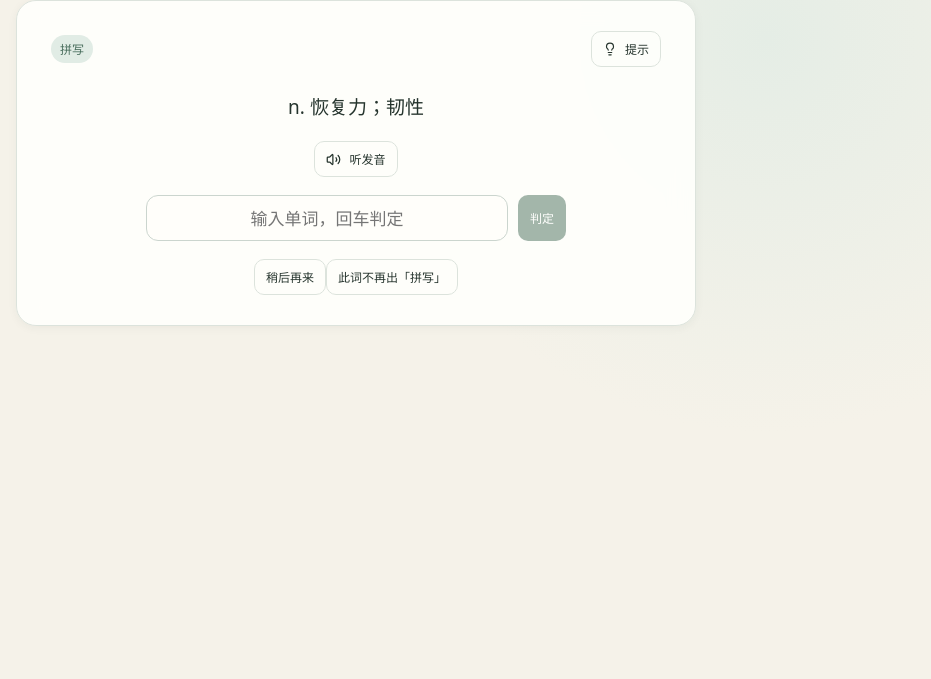
拼写卡（typing 流） › 答错：标红、显示正确答案、建议 Again
Type "resiliance" into the field with placeholder "输入单词，回车判定" at coordinates (327, 218), box [146,195,508,241]
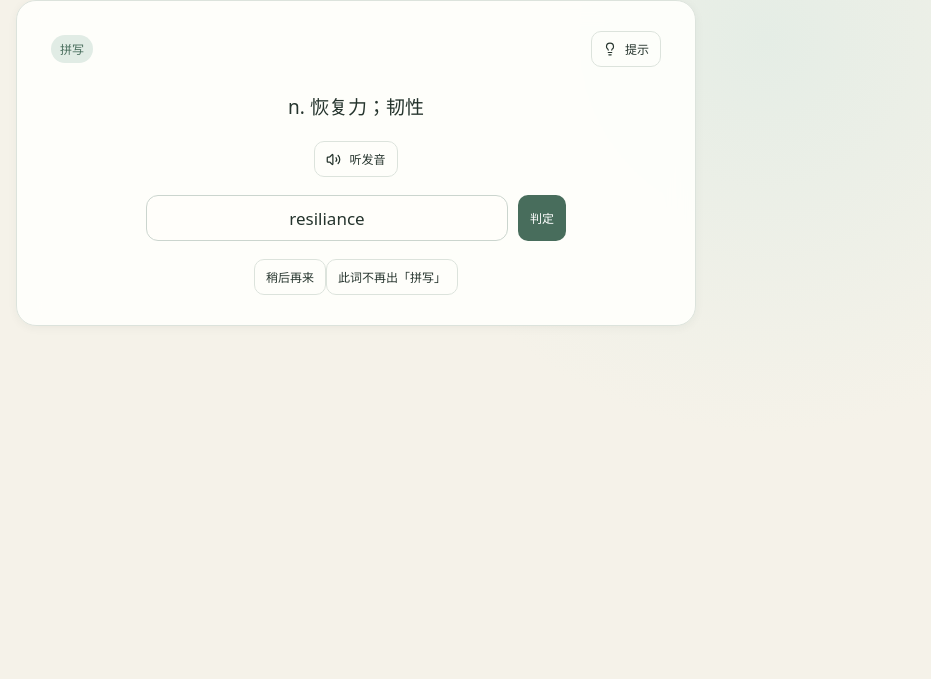
Submit the form, box [146,195,566,241]
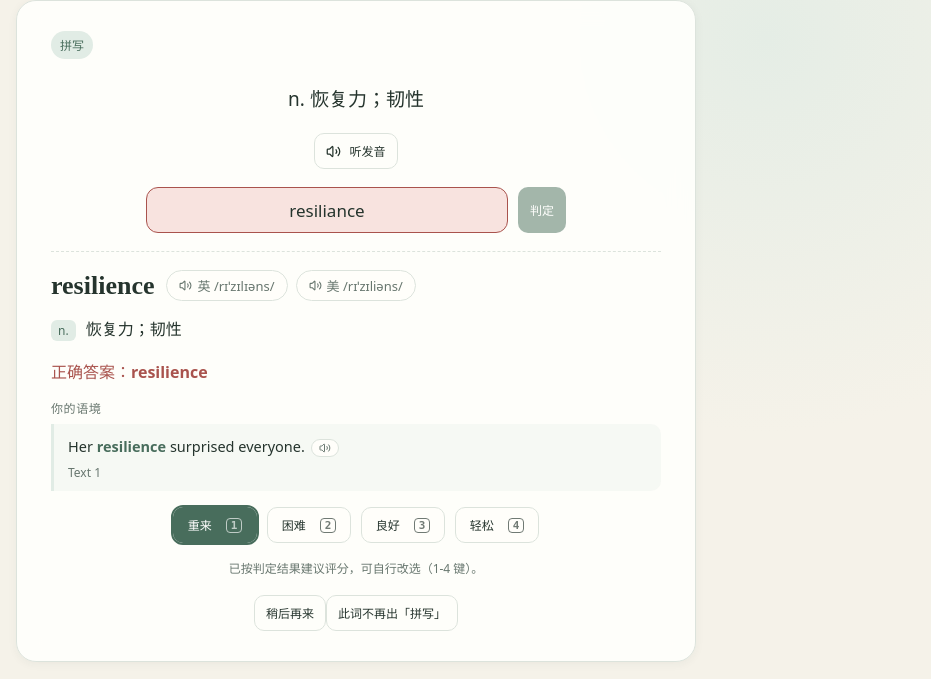
Expected: the text "正确答案：resilience" is shown, [51,361,208,383]
